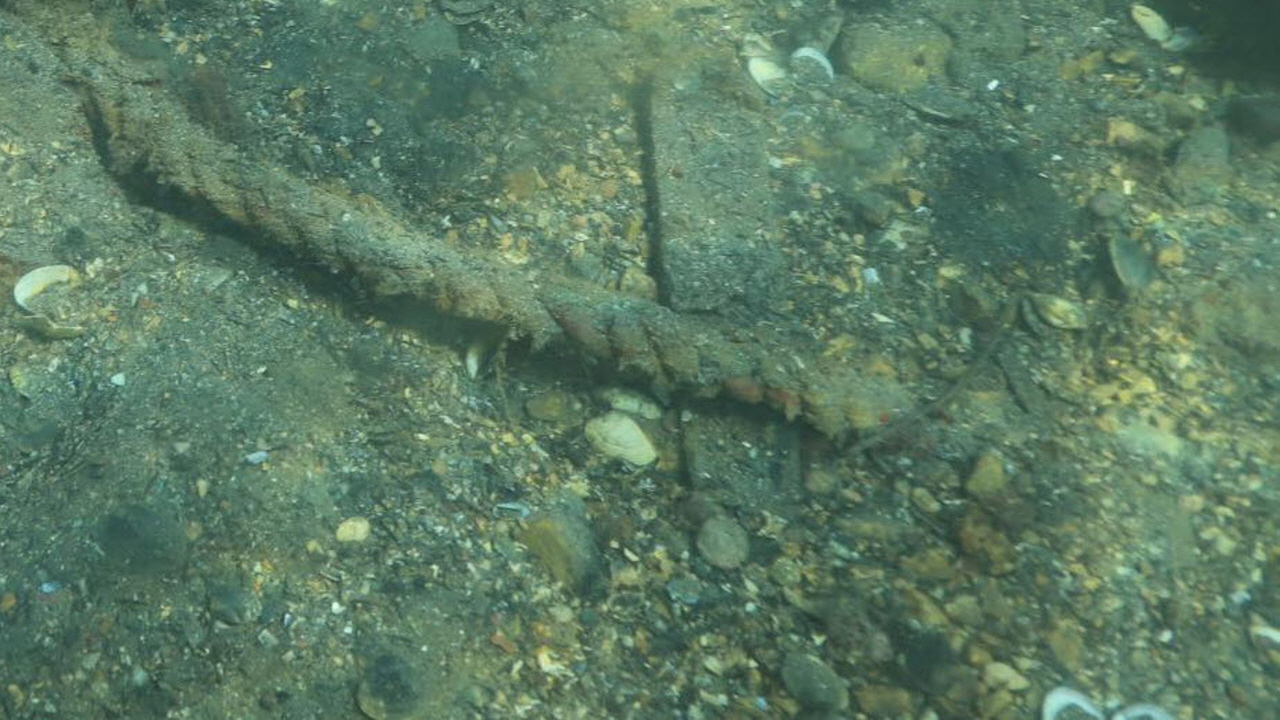rope: (79, 50, 917, 439)
